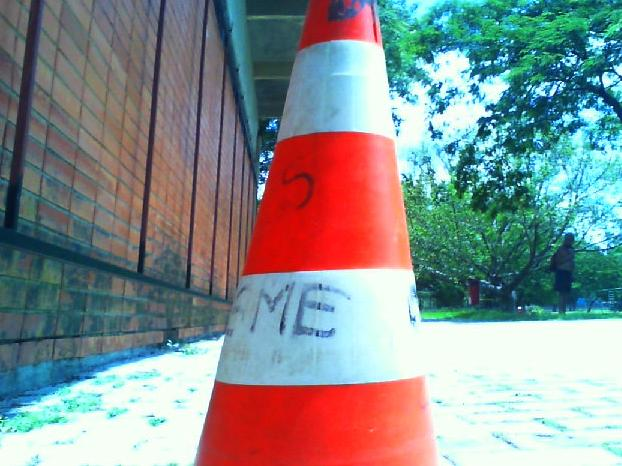0 cone: (190, 0, 439, 466)
